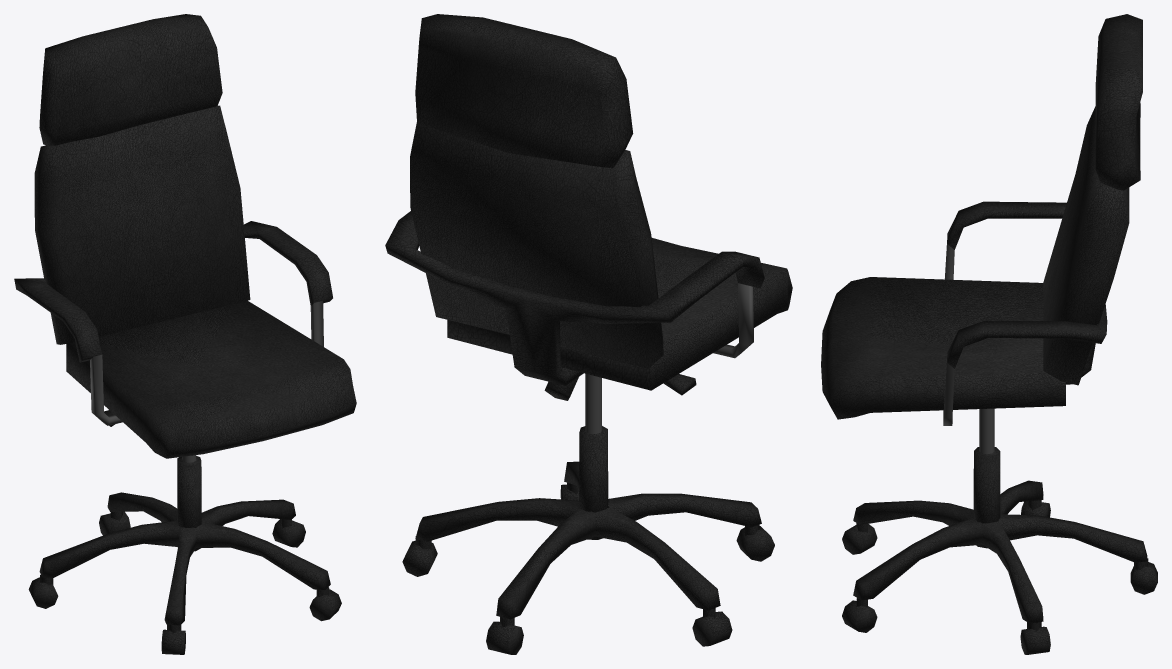
The model's file is Chair2.FBX.
The picture shows the model from 3 angles, left to right: view 1: azimuth 30°, elevation 25°; view 2: azimuth 150°, elevation 25°; view 3: azimuth 270°, elevation 25°; orthographic projection. The views are drawn at different scales.
Parts seen in each view (by area): view 1: chair 2; view 2: chair 2; view 3: chair 2.
Part boxes in pixels (bbox=[...]): chair 2: bbox=[14, 14, 356, 654]; chair 2: bbox=[385, 14, 792, 654]; chair 2: bbox=[821, 14, 1157, 654].
Size of the model in its own units: 803 by 814 by 1444.
Materials: 2 (1 with a texture image).
